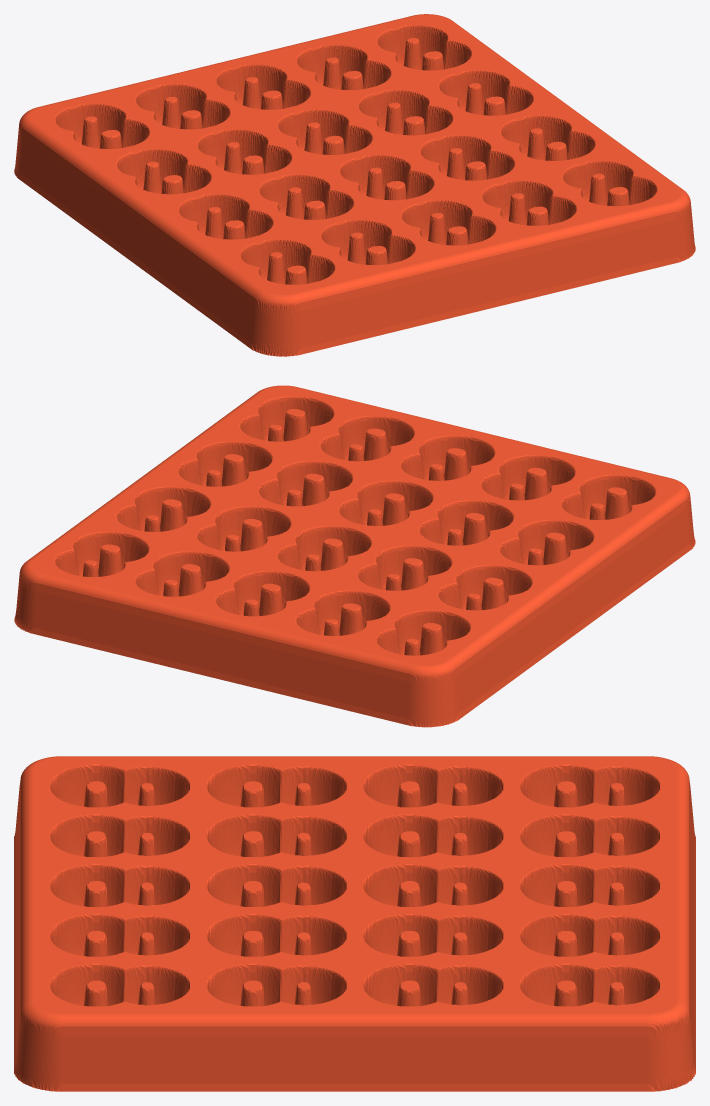
Rendered from mold.glb.
3 views of the same model, one above another, from view 1: azimuth 30°, elevation 25°; view 2: azimuth 150°, elevation 25°; view 3: azimuth 270°, elevation 25° (orthographic). The views are drawn at different scales.
Parts seen in each view (by area): view 1: geometry_0; view 2: geometry_0; view 3: geometry_0.
Boxes of the visible parts, x1,y1,x2,y2 form: geometry_0: (14, 14, 695, 356); geometry_0: (14, 385, 695, 727); geometry_0: (14, 756, 695, 1091).
Size of the model in its own units: 0.1207 by 0.0145 by 0.1278.
